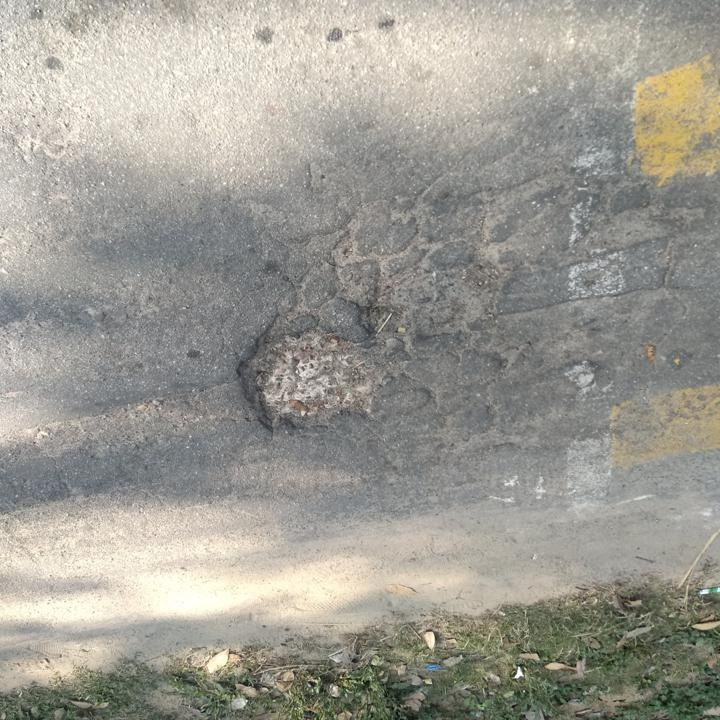pothole: (229, 325, 395, 439), (356, 255, 514, 342)
